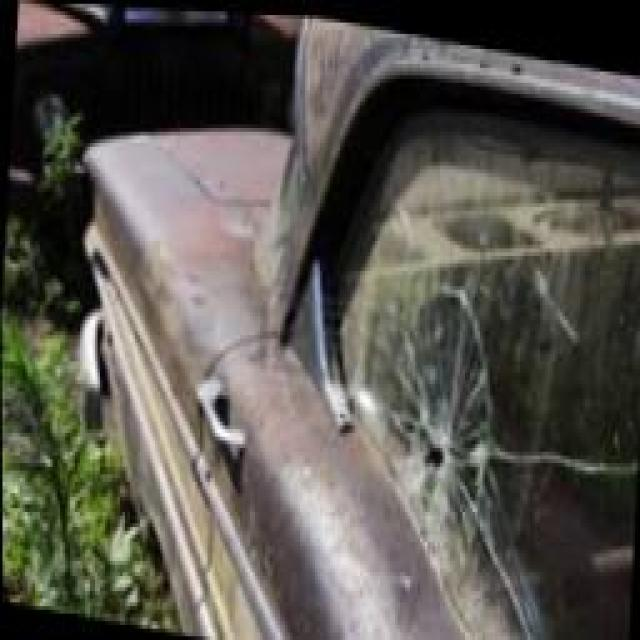replaceable: (373, 261, 623, 551)
